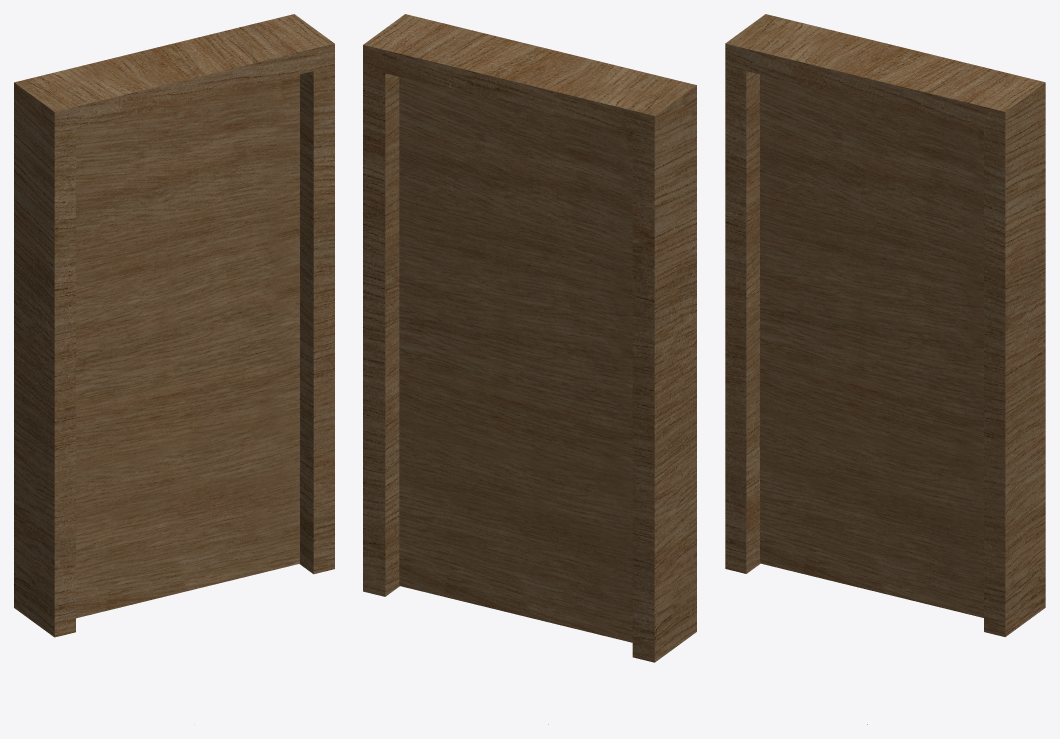
Rendered from Door_prueba.fbx.
3 renders of one model, left to right at view 1: azimuth 30°, elevation 25°; view 2: azimuth 150°, elevation 25°; view 3: azimuth 330°, elevation 25°, orthographic. The views are drawn at different scales.
Parts seen in each view (by area): view 1: Sheet, Door; view 2: Sheet, Door; view 3: Sheet, Door.
Boxes of the visible parts, left/top/right/bottom form: Sheet: left=76, top=74, right=299, bottom=618; Door: left=14, top=14, right=334, bottom=637; Sheet: left=399, top=77, right=632, bottom=642; Door: left=363, top=14, right=696, bottom=662; Sheet: left=760, top=74, right=983, bottom=617; Door: left=725, top=14, right=1045, bottom=636.
Size of the model in its own units: 240 by 530 by 60.
